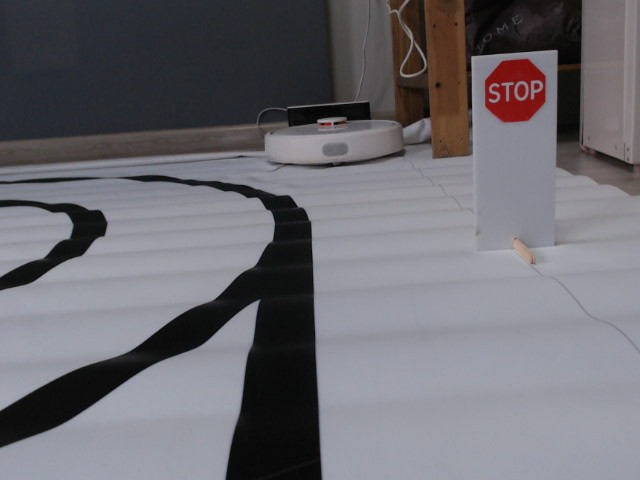Stop: (485, 58, 547, 124)
